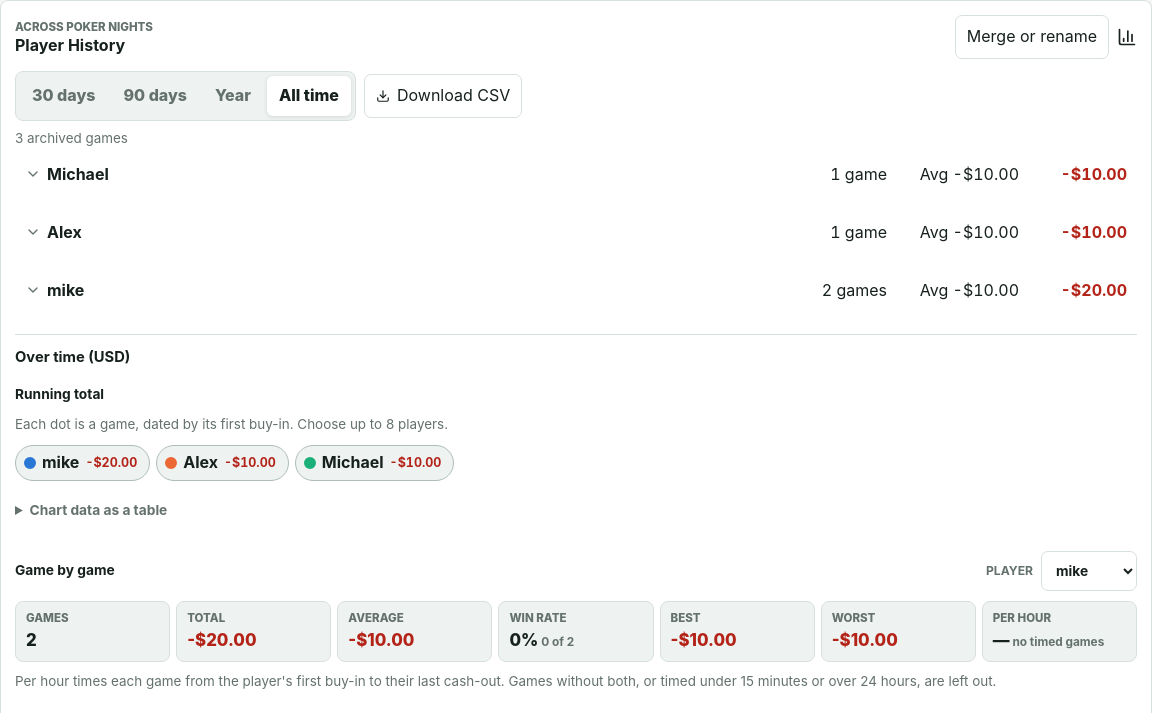
Test: Player History merging › renames a row, keeping its old name linked
The width and height of the screenshot is (1152, 713).
Expected: the text "3 archived games" is shown, [15,130,128,146]
Click the button "Merge or rename": [1032, 37] box [955,15,1109,59]
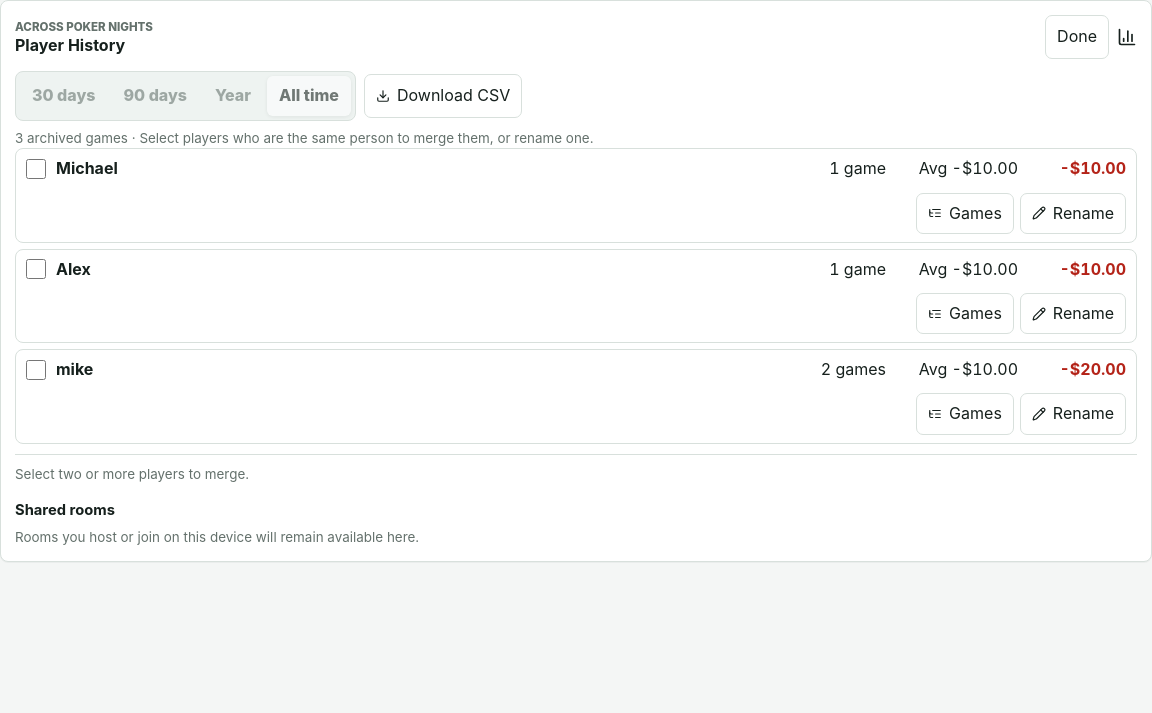
Click the button with aria-label "Rename Alex": [1073, 314] box [1020,293,1126,334]
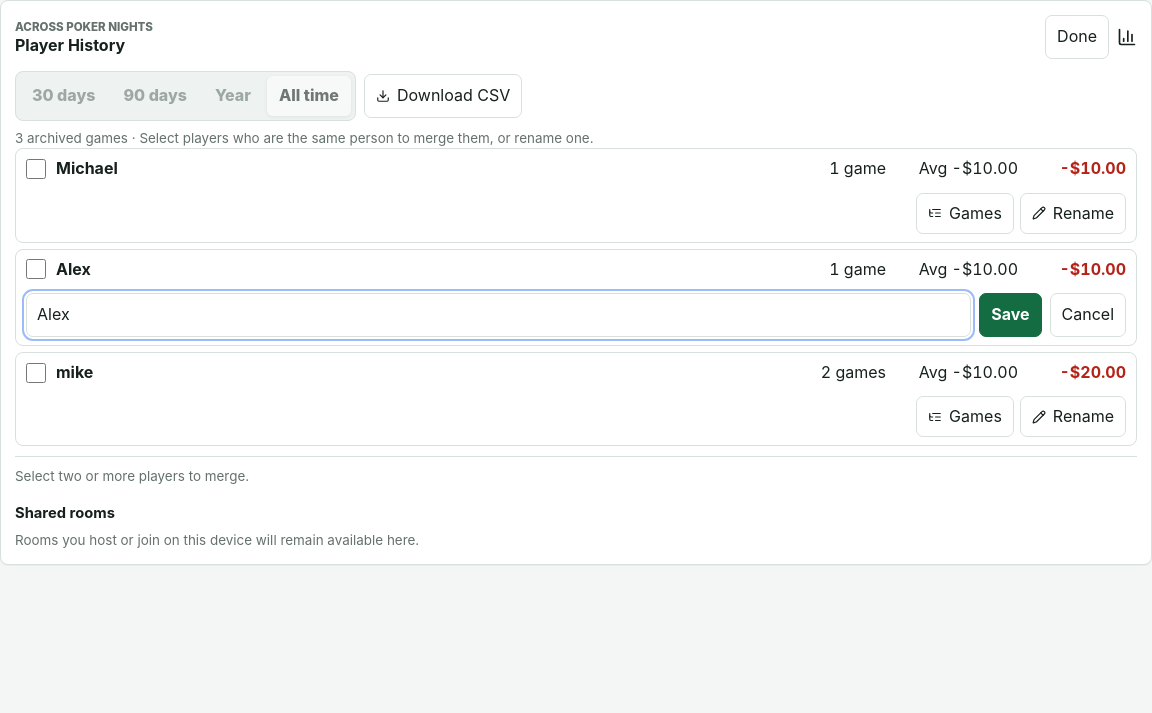
Replace the text in the field named "New name for Alex" with "Alexandra": [499, 315] box [26,293,971,337]
Click the button "Save": [1010, 315] box [979,293,1042,337]
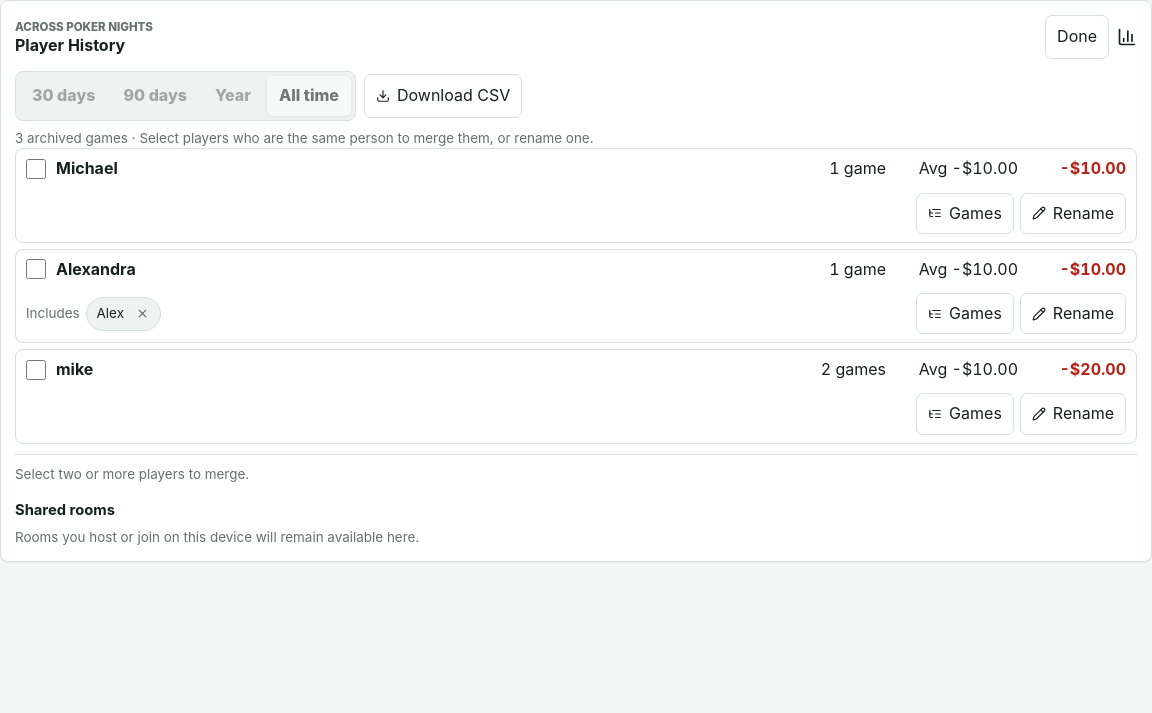
Expected: the checkbox named "Select Alexandra" is shown, [26,260,46,280]
Click the button with aria-label "Rename Alexandra": [1073, 314] box [1020,293,1126,334]
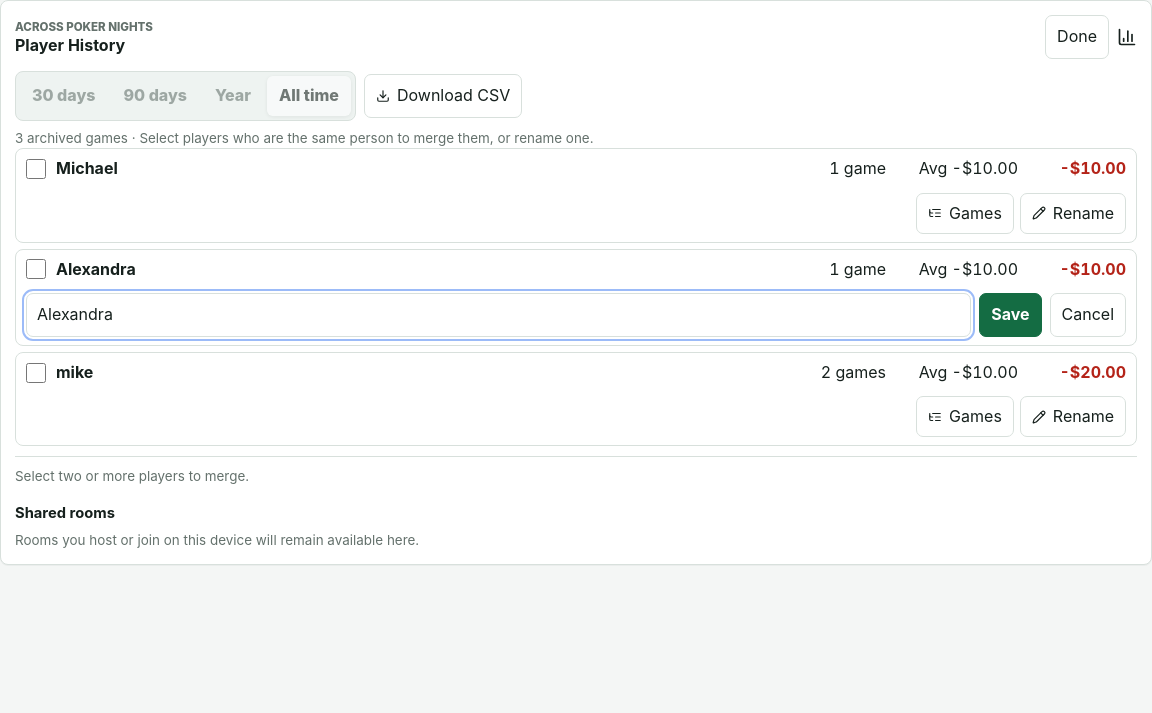
Replace the text in the field named "New name for Alexandra" with "michael": [499, 315] box [26,293,971,337]
Click the button "Save": [1010, 315] box [979,293,1042,337]
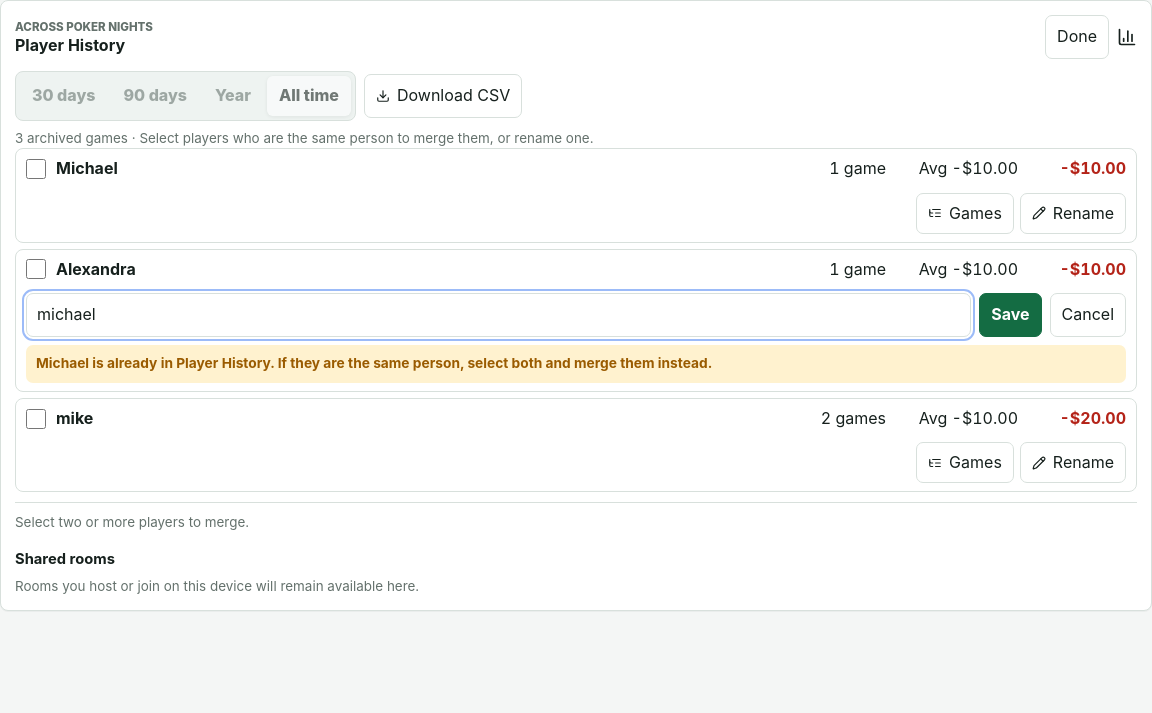
Now the message shows "merge them instead", box [36,355,712,371]
Replace the text in the field named "New name for Alexandra" with "michael k": [499, 315] box [26,293,971,337]
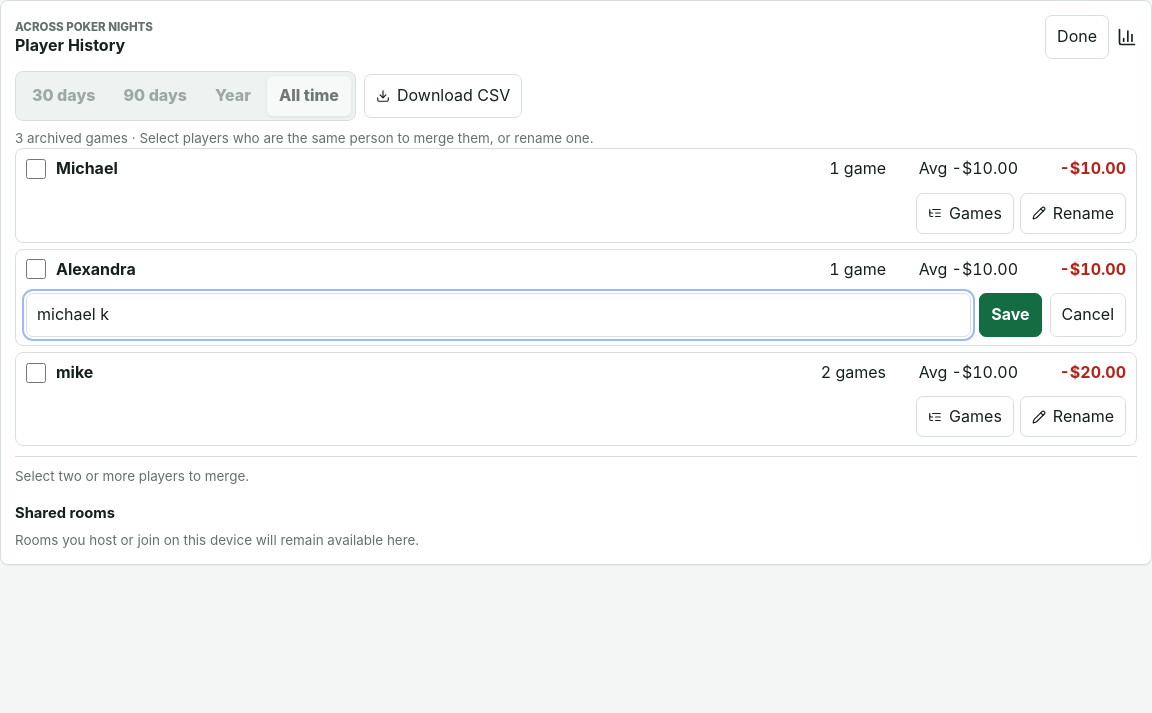
Now the checkbox named "Select Alexandra" is shown, box [26,260,46,280]
Now the message is gone
